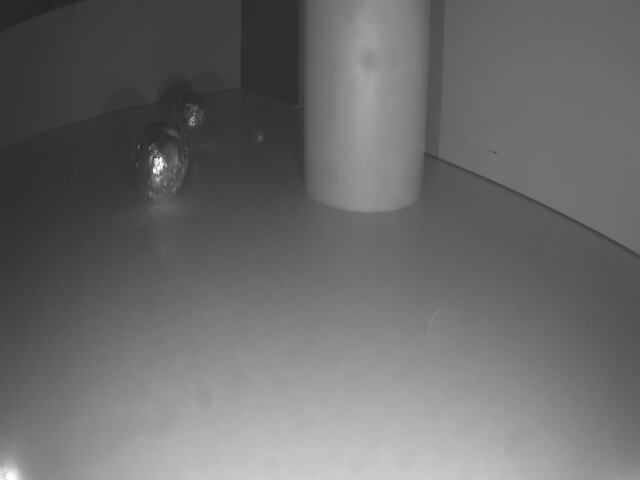Live: (129, 122, 191, 205), (169, 89, 213, 149)
